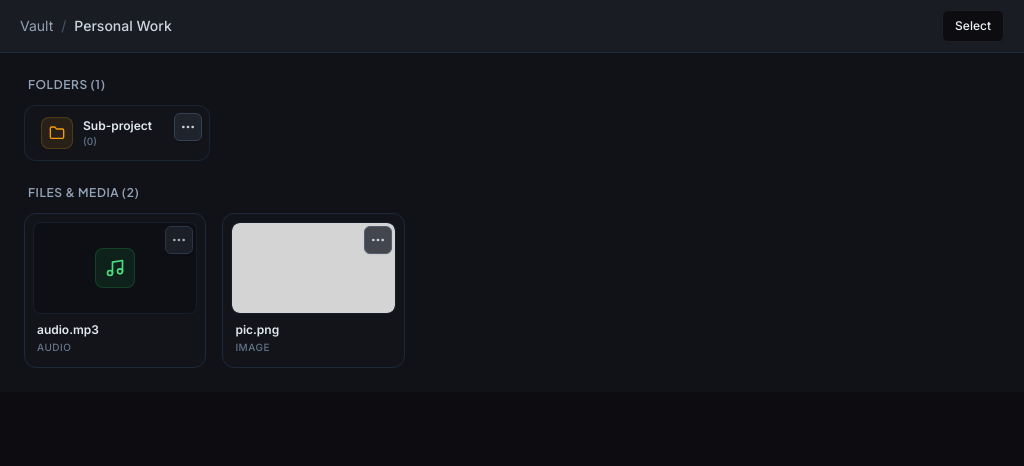
Bulk Selection UI in FolderContentsView › should toggle a folder card membership instead of navigating while in selection mode
This screenshot has width=1024, height=466.
Click the button "Select" at (973, 26), box [942, 10, 1004, 42]
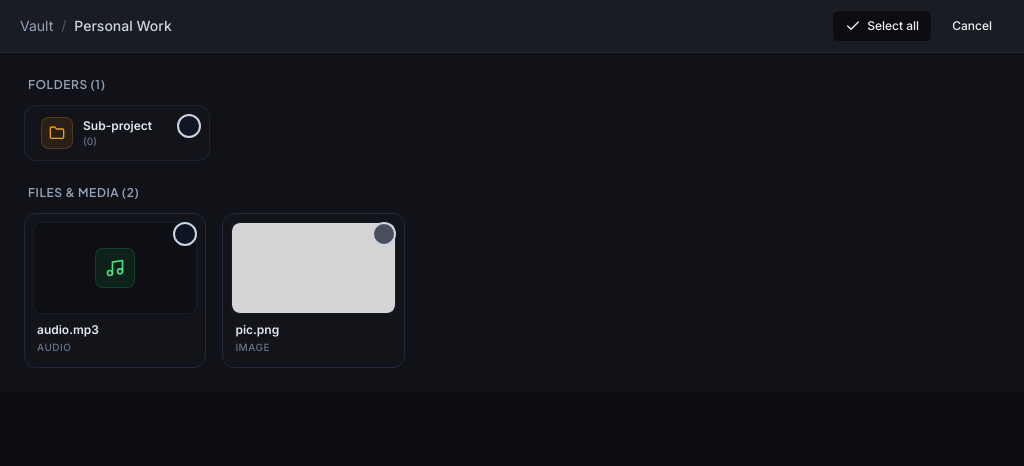
Click the button "Sub-project (0)" at (117, 133), box [24, 105, 210, 161]
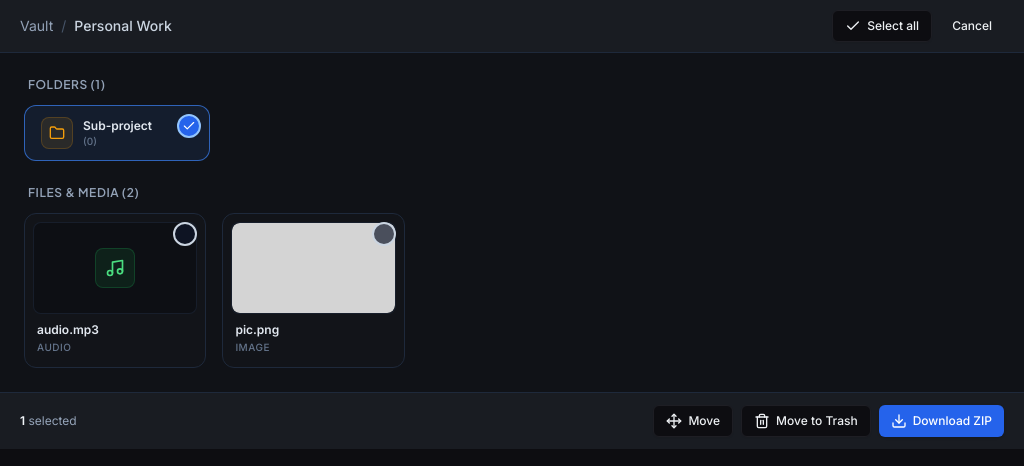
Check: the text "1 selected" is shown, box [20, 414, 77, 430]
